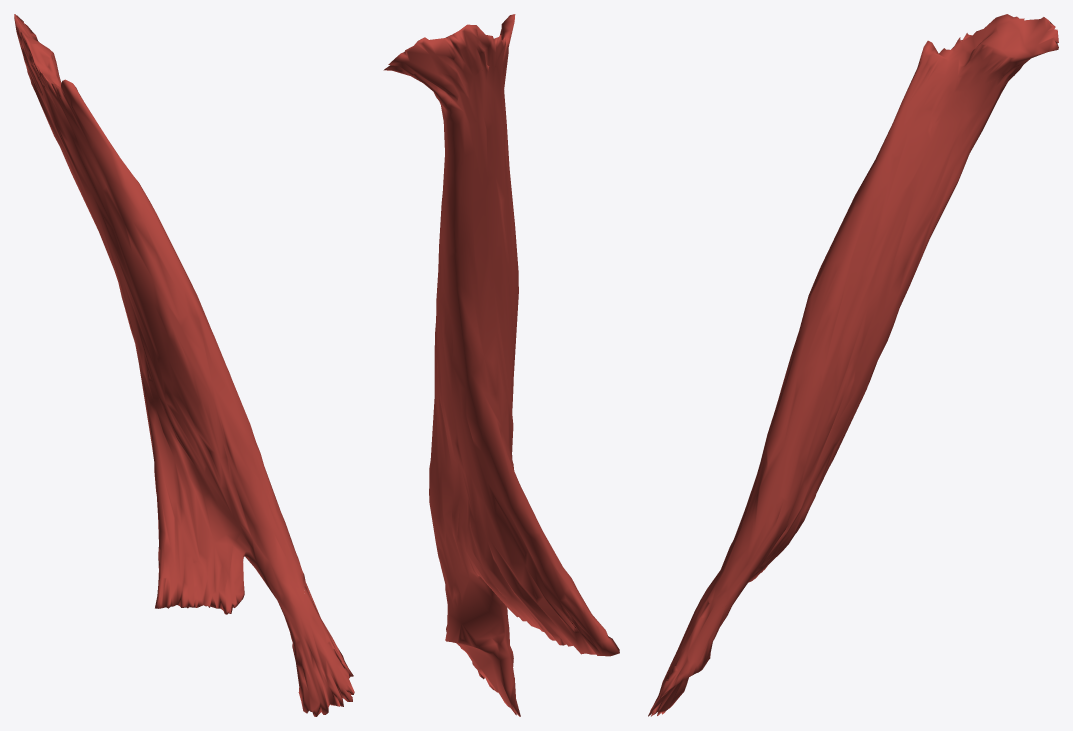
File: musculos-sternocleidomastoid-muscle-r.glb
3 views of the same model, side by side, from view 1: azimuth 30°, elevation 25°; view 2: azimuth 150°, elevation 25°; view 3: azimuth 270°, elevation 25° (orthographic). The views are drawn at different scales.
Parts seen in each view (by area): view 1: Sternocleidomastoid muscle.r; view 2: Sternocleidomastoid muscle.r; view 3: Sternocleidomastoid muscle.r.
Part boxes in pixels (x1,y1,x2,y2): Sternocleidomastoid muscle.r: (14, 14, 354, 716); Sternocleidomastoid muscle.r: (383, 14, 619, 716); Sternocleidomastoid muscle.r: (648, 14, 1058, 716).
Size of the model in its own units: 0.0578 by 0.1937 by 0.1136.
